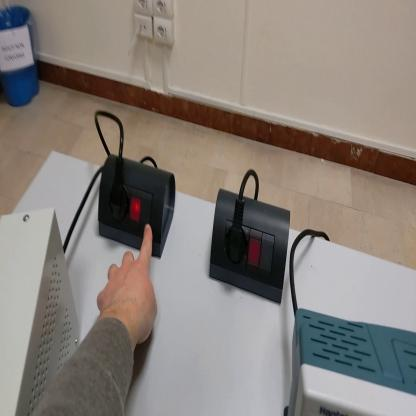hand: (96, 222, 159, 347)
oscilloscope: (285, 309, 416, 416)
power supply: (2, 209, 80, 416)
socket: (210, 188, 292, 312), (100, 159, 178, 263)
